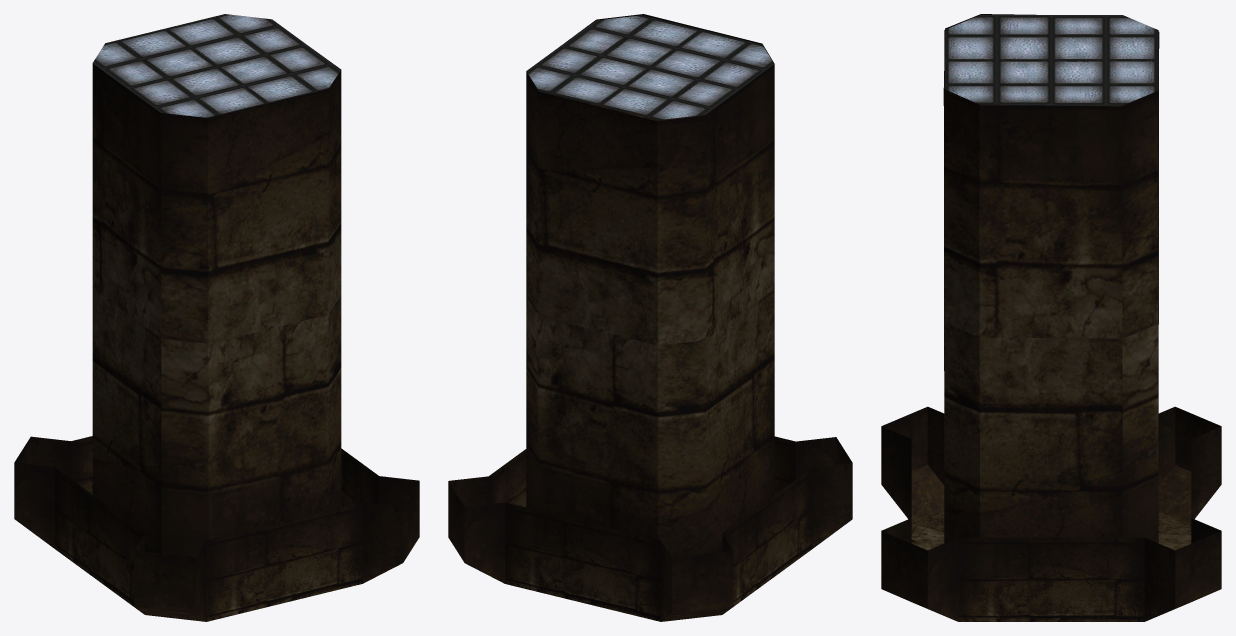
File: window_high_worn.dae
3 views of the same model, side by side, from view 1: azimuth 30°, elevation 25°; view 2: azimuth 150°, elevation 25°; view 3: azimuth 270°, elevation 25° (orthographic). The views are drawn at different scales.
Parts seen in each view (by area): view 1: polySurface4, polySurface5; view 2: polySurface4, polySurface5; view 3: polySurface4, polySurface5.
Part boxes in pixels (<box>): polySurface4: <box>14,49,419,621</box>; polySurface5: <box>93,14,340,118</box>; polySurface4: <box>448,14,852,621</box>; polySurface5: <box>526,15,773,119</box>; polySurface4: <box>881,14,1221,621</box>; polySurface5: <box>944,15,1158,105</box>.
Bounding box in the file's own units: 3.66 × 5.97 × 3.66.
